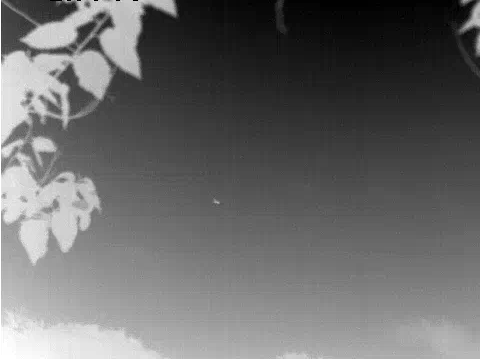dim target: (213, 198, 220, 205)
